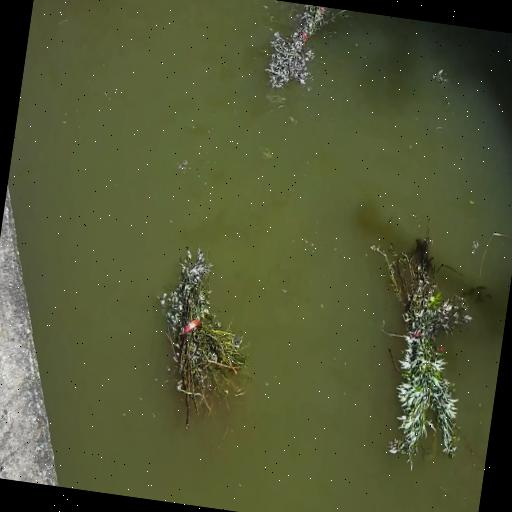twig: (342, 214, 492, 474), (145, 241, 269, 441), (256, 0, 348, 100), (36, 0, 118, 10)
